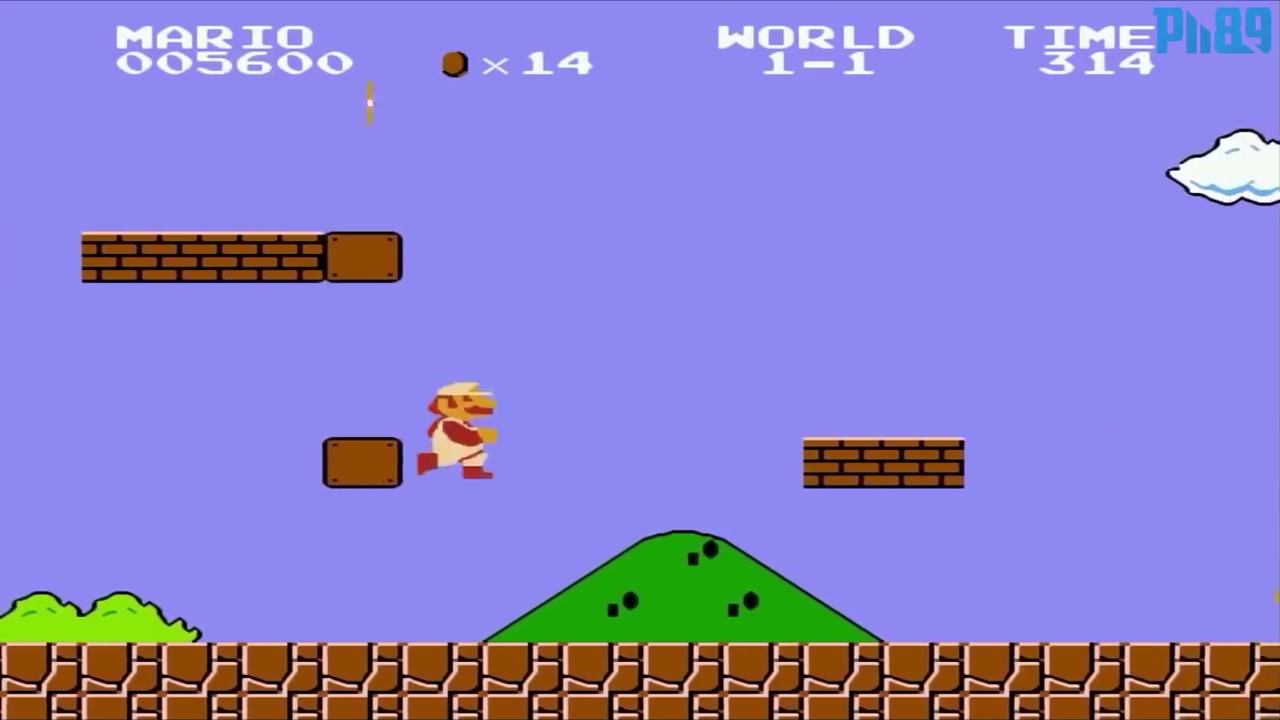mario: (409, 373, 497, 485)
